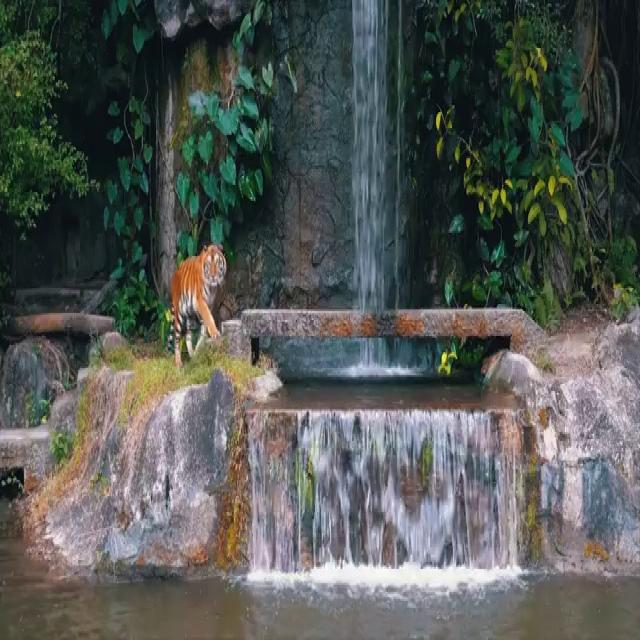tiger: (165, 239, 227, 364)
